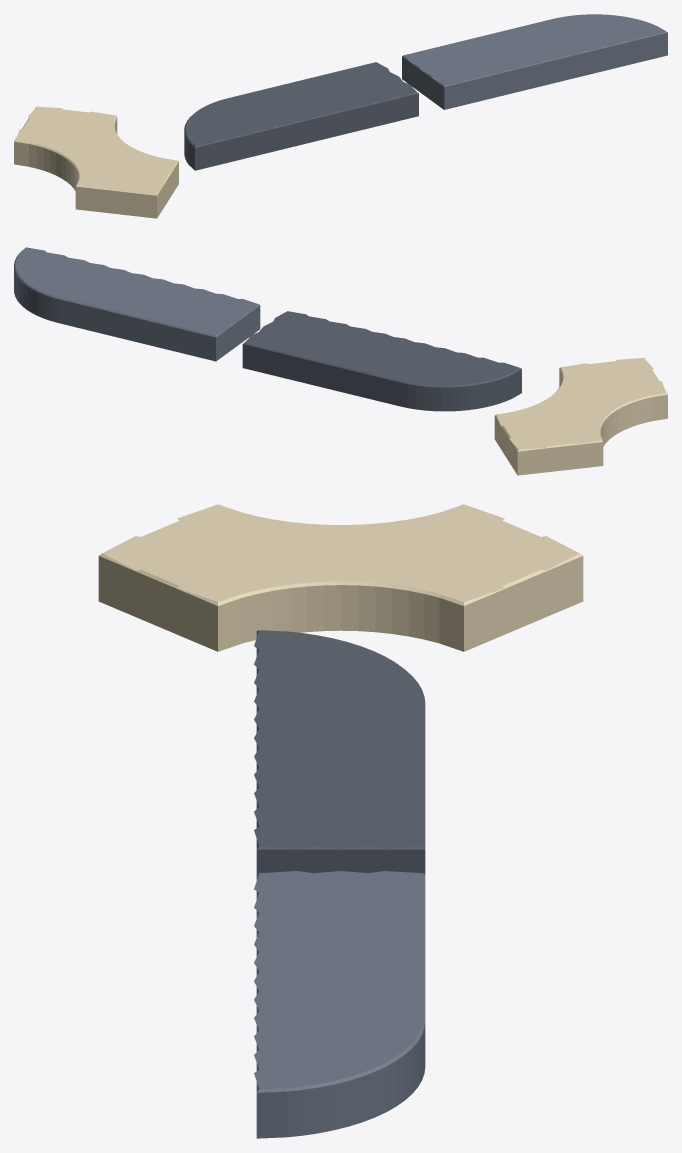
The model's file is mahsulot.glb.
The picture shows the model from 3 angles, top to bottom: view 1: azimuth 30°, elevation 25°; view 2: azimuth 150°, elevation 25°; view 3: azimuth 270°, elevation 25°; orthographic projection. The views are drawn at different scales.
Visible parts, largest first — view 1: mahsulot_Bm, mahsulot_B, mahsulot_A; view 2: mahsulot_B, mahsulot_Bm, mahsulot_A; view 3: mahsulot_A, mahsulot_Bm, mahsulot_B.
Part boxes in pixels (bbox=[...]): mahsulot_Bm: bbox=[402, 14, 667, 109]; mahsulot_B: bbox=[184, 62, 418, 170]; mahsulot_A: bbox=[14, 106, 178, 218]; mahsulot_B: bbox=[242, 311, 521, 411]; mahsulot_Bm: bbox=[14, 247, 260, 361]; mahsulot_A: bbox=[494, 358, 667, 475]; mahsulot_A: bbox=[98, 504, 583, 651]; mahsulot_Bm: bbox=[254, 871, 425, 1138]; mahsulot_B: bbox=[254, 630, 425, 873].
Size of the model in its own units: 0.7854 by 0.03 by 0.2739.
